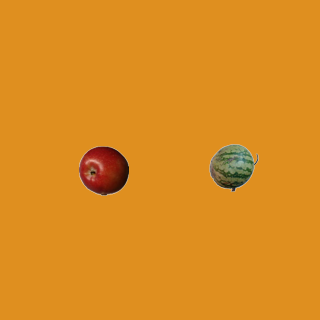Apple Braeburn: (78, 145, 128, 195)
Watermelon: (208, 142, 258, 192)
